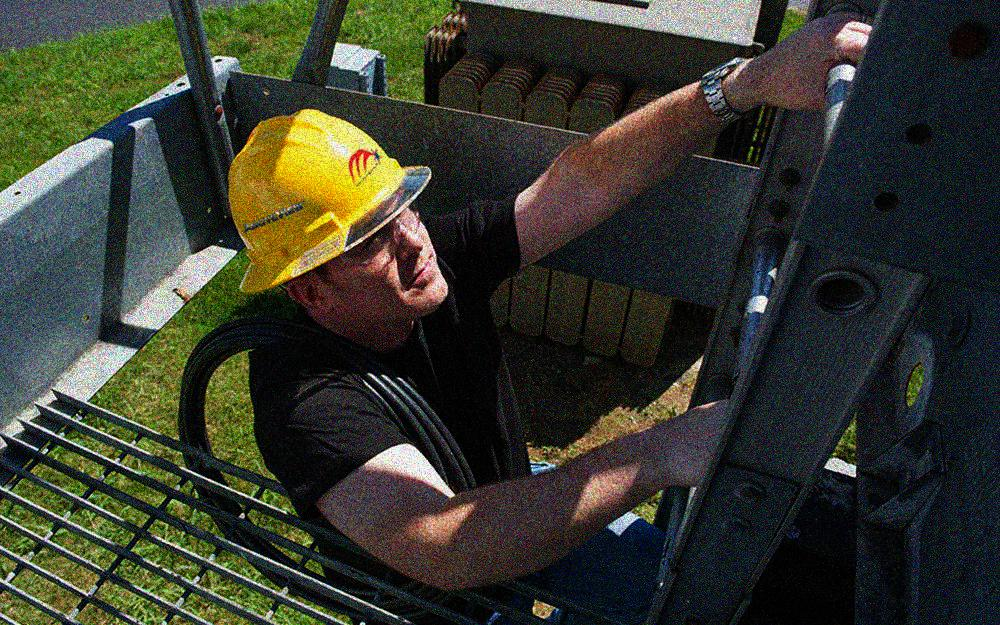helmet: (228, 106, 455, 319)
